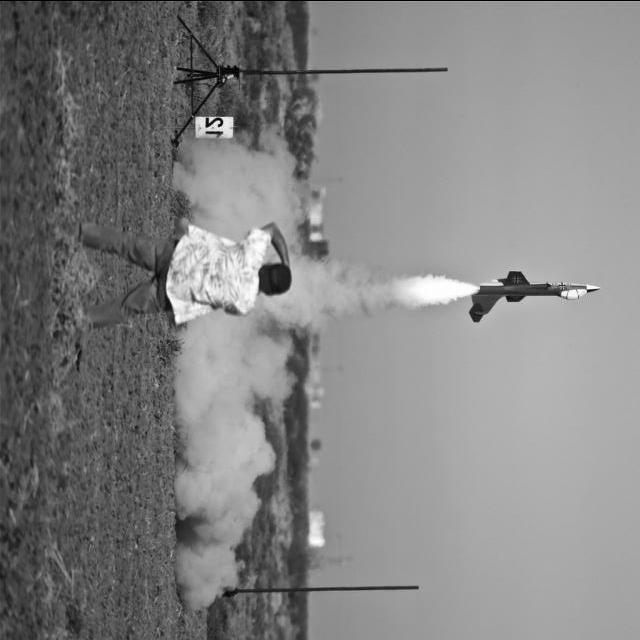missile: (460, 251, 603, 324)
